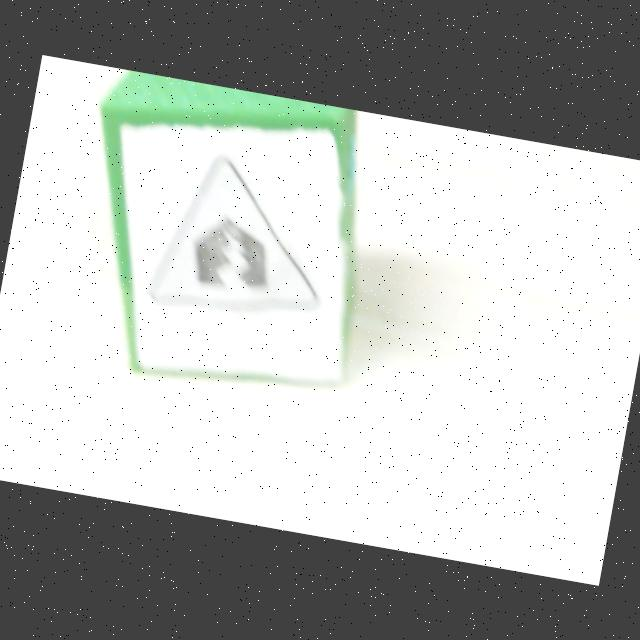Earthquake: (151, 150, 343, 328), (148, 155, 324, 312)
